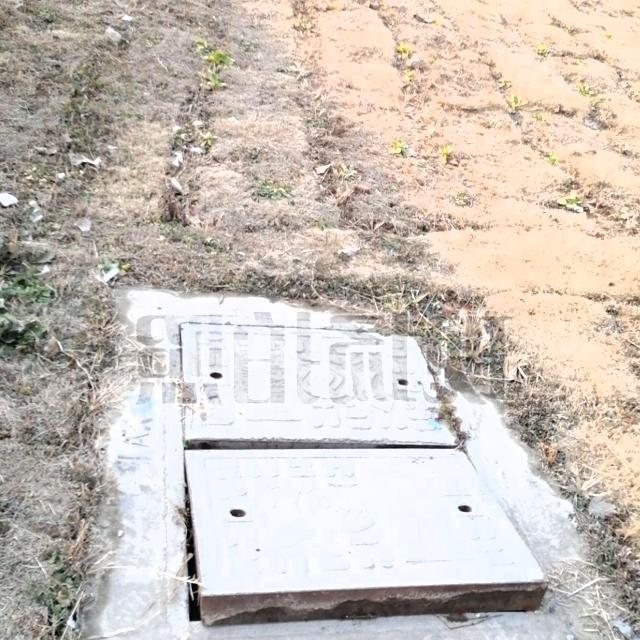uncovered: (174, 319, 554, 635)
